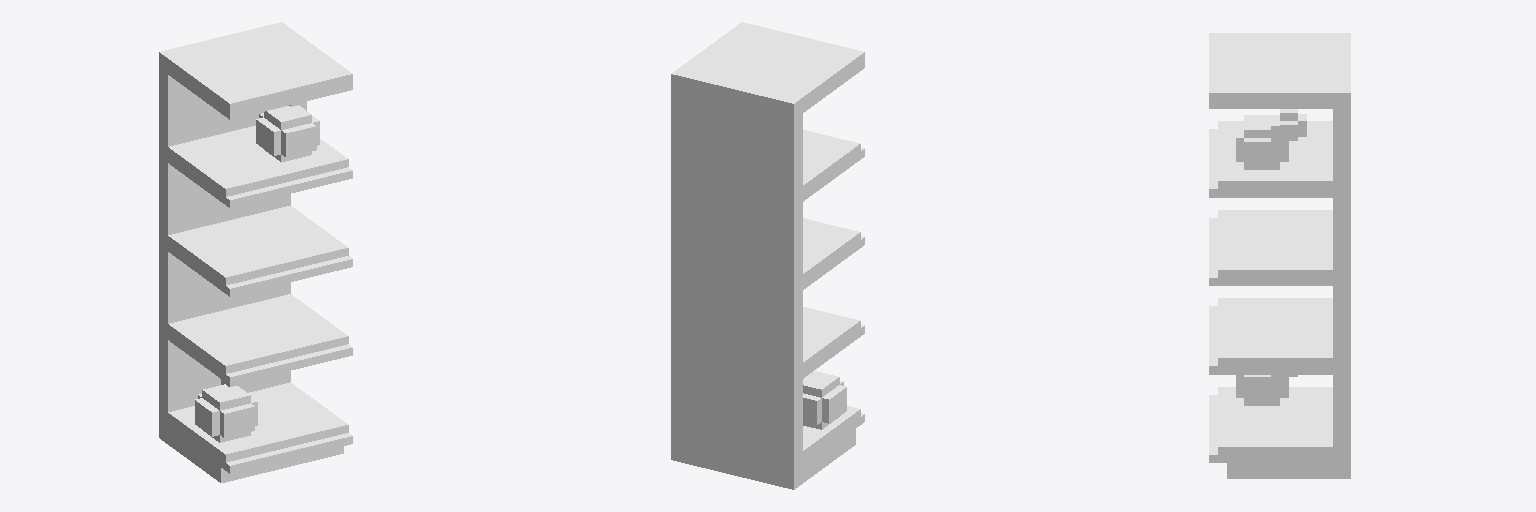
The model's file is fullMeatShelf3.obj.
3 views of the same model, side by side, from view 1: azimuth 30°, elevation 25°; view 2: azimuth 150°, elevation 25°; view 3: azimuth 270°, elevation 25° (orthographic).
Parts seen in each view (by area): view 1: object 1; view 2: object 1; view 3: object 1.
Part boxes in pixels (x1,y1,x2,y2): object 1: (159,22,352,482); object 1: (671,22,864,489); object 1: (1209,33,1350,478).
Bounding box in the file's own units: 1.6 × 4.8 × 1.6.